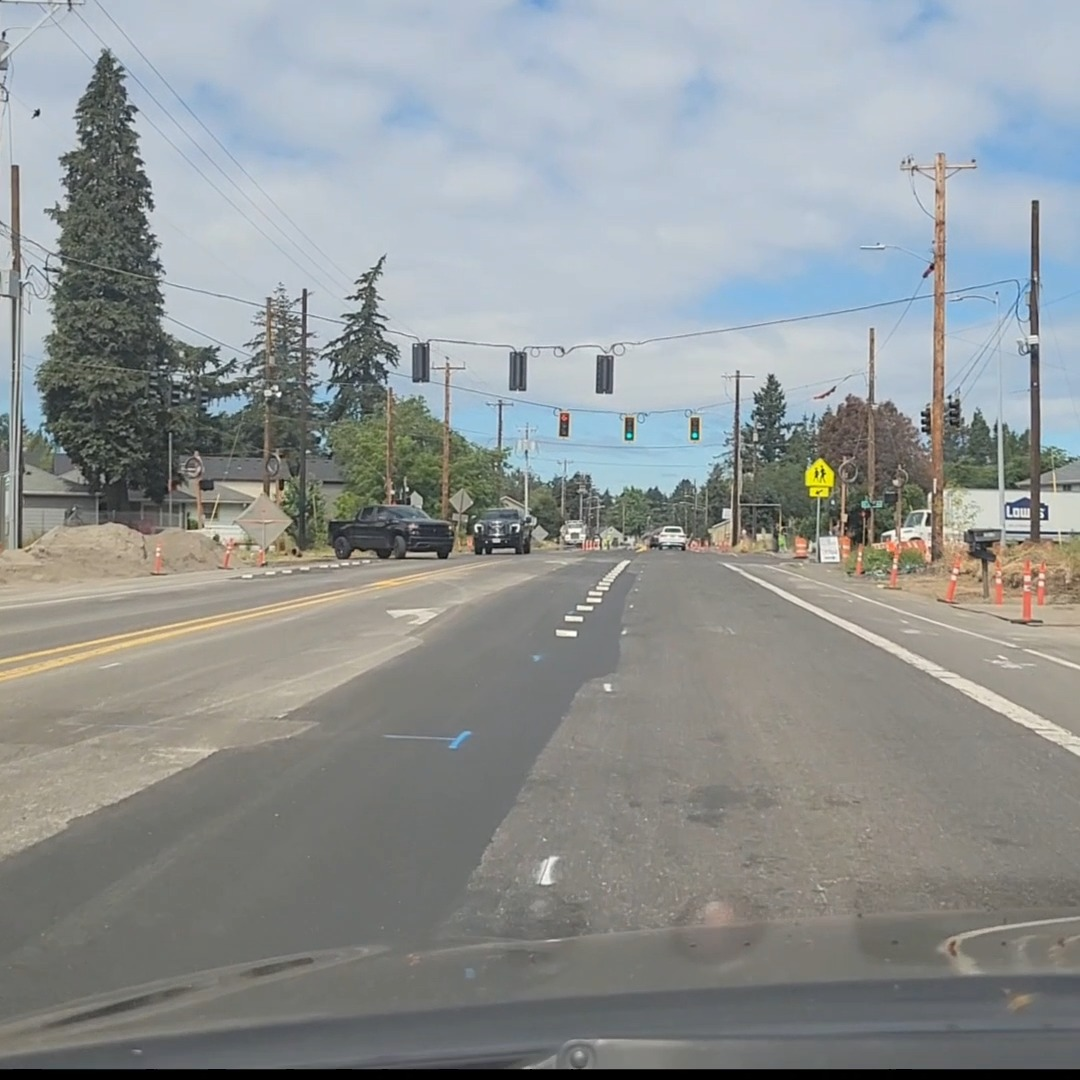car: (327, 504, 454, 559), (468, 507, 534, 555), (651, 525, 688, 550), (559, 519, 587, 547)
crosswalk-sign: (804, 457, 834, 497)
delineator: (937, 556, 960, 604), (886, 540, 901, 587), (220, 538, 235, 569), (151, 544, 166, 574), (1036, 563, 1046, 606), (993, 563, 1003, 605), (854, 544, 864, 575), (255, 542, 267, 566)
